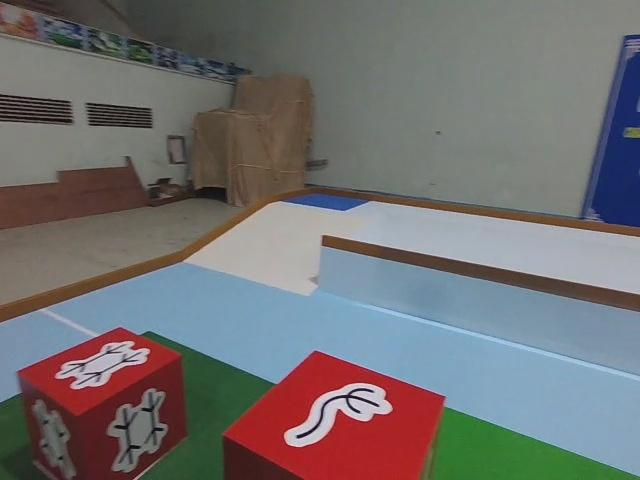R2 Real: (217, 344, 449, 480), (14, 323, 192, 480)
